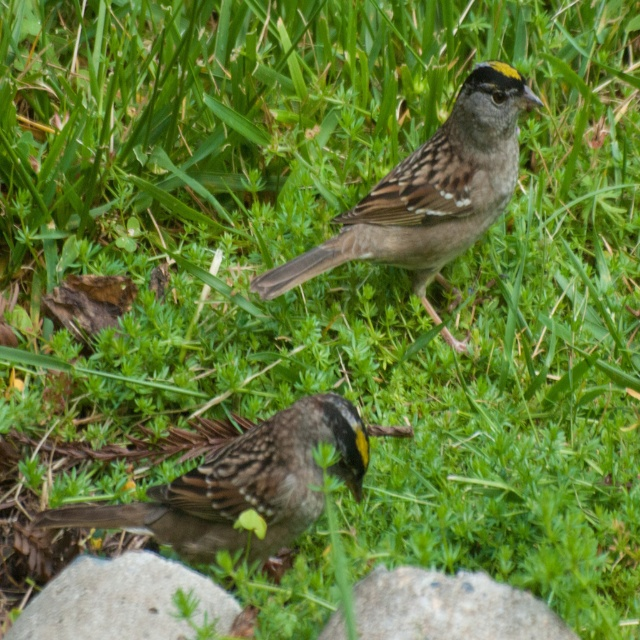Sparrow: (244, 60, 548, 354)
